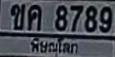7: (70, 4, 83, 31)
8: (54, 4, 67, 29), (84, 5, 96, 31)
9: (99, 6, 111, 31)
A02: (10, 3, 25, 29)
A04: (27, 4, 41, 29)
PLK: (28, 36, 79, 55)
